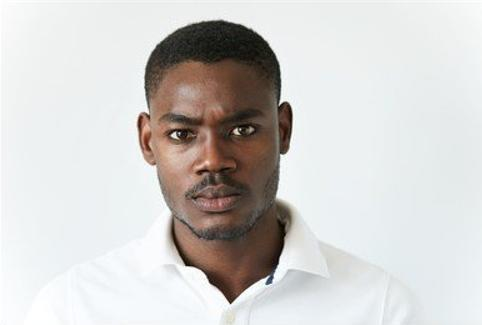Sober: (155, 56, 275, 226)
